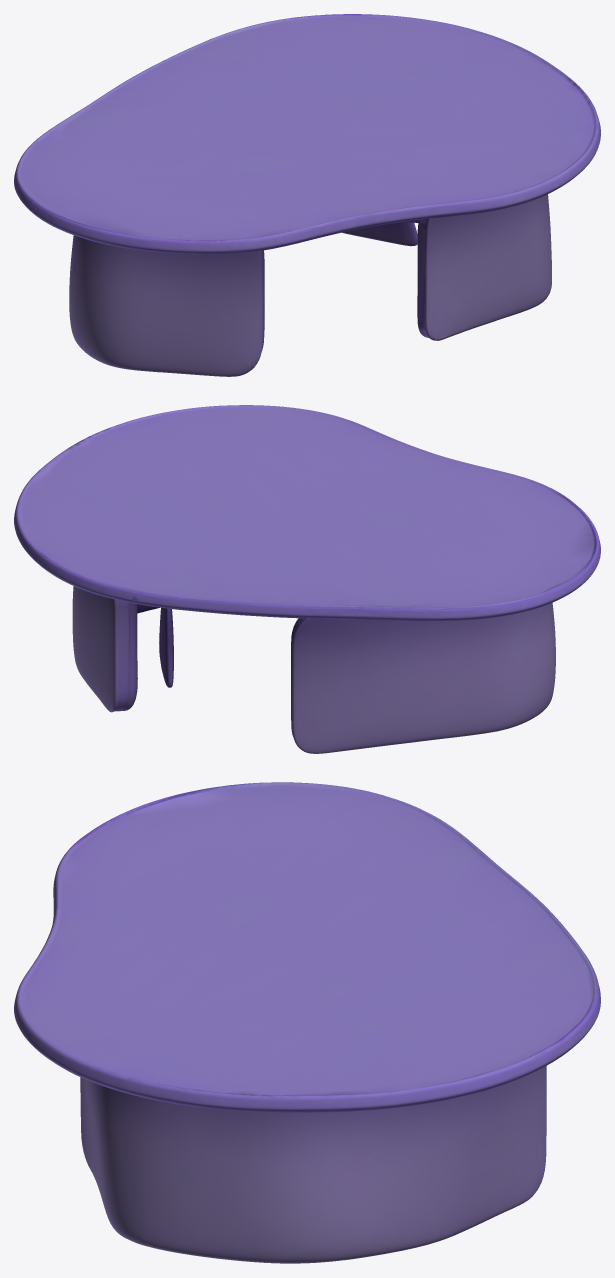
File: room1-coffee-table-r16.glb
The picture shows the model from 3 angles, top to bottom: view 1: azimuth 30°, elevation 25°; view 2: azimuth 150°, elevation 25°; view 3: azimuth 270°, elevation 25°; orthographic projection. The views are drawn at different scales.
Parts seen in each view (by area): view 1: node_0; view 2: node_0; view 3: node_0.
Part boxes in pixels (<box>): node_0: <box>14,14,600,376</box>; node_0: <box>14,405,600,753</box>; node_0: <box>14,782,600,1263</box>.
Size of the model in its own units: 1.15 by 0.3299 by 0.8987.
Materials: 1 (1 with a texture image).
